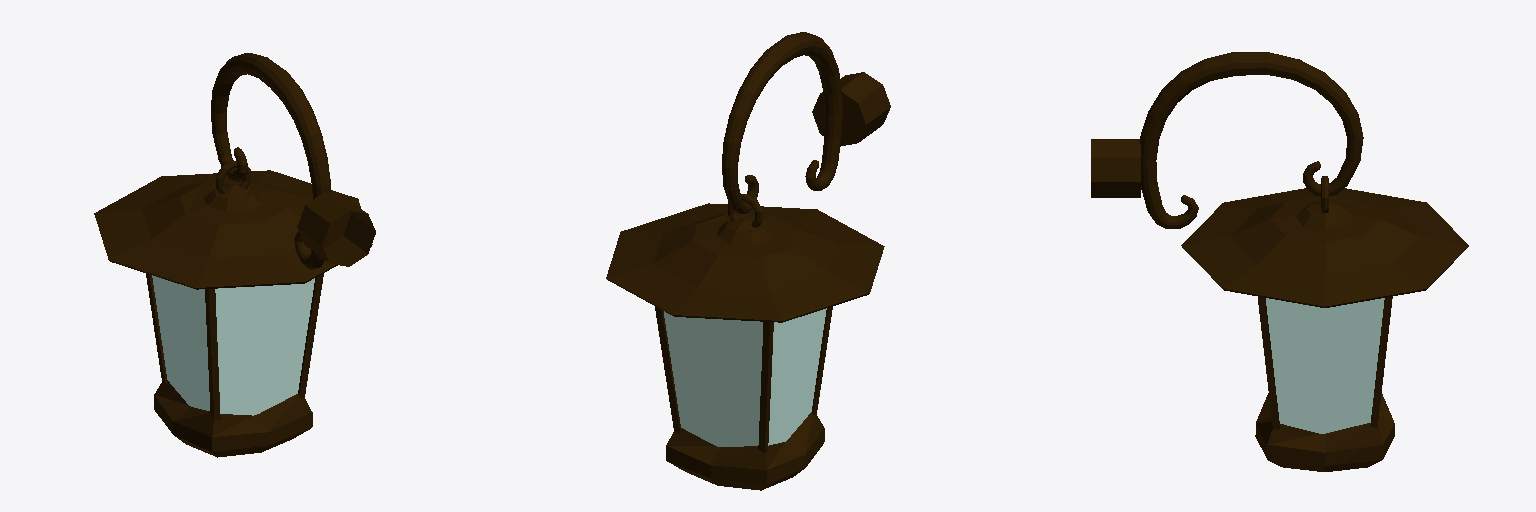
Rendered from lamp.obj.
The picture shows the model from 3 angles: view 1: azimuth 30°, elevation 25°; view 2: azimuth 150°, elevation 25°; view 3: azimuth 270°, elevation 25°; orthographic projection.
Visible parts, largest first — view 1: Lamp_Cylinder.061; view 2: Lamp_Cylinder.061; view 3: Lamp_Cylinder.061.
Part boxes in pixels (left/top/right/bottom): Lamp_Cylinder.061: left=94, top=53, right=375, bottom=457; Lamp_Cylinder.061: left=606, top=32, right=890, bottom=490; Lamp_Cylinder.061: left=1091, top=52, right=1468, bottom=471.
Size of the model in its own units: 0.503 by 0.7815 by 0.6606.